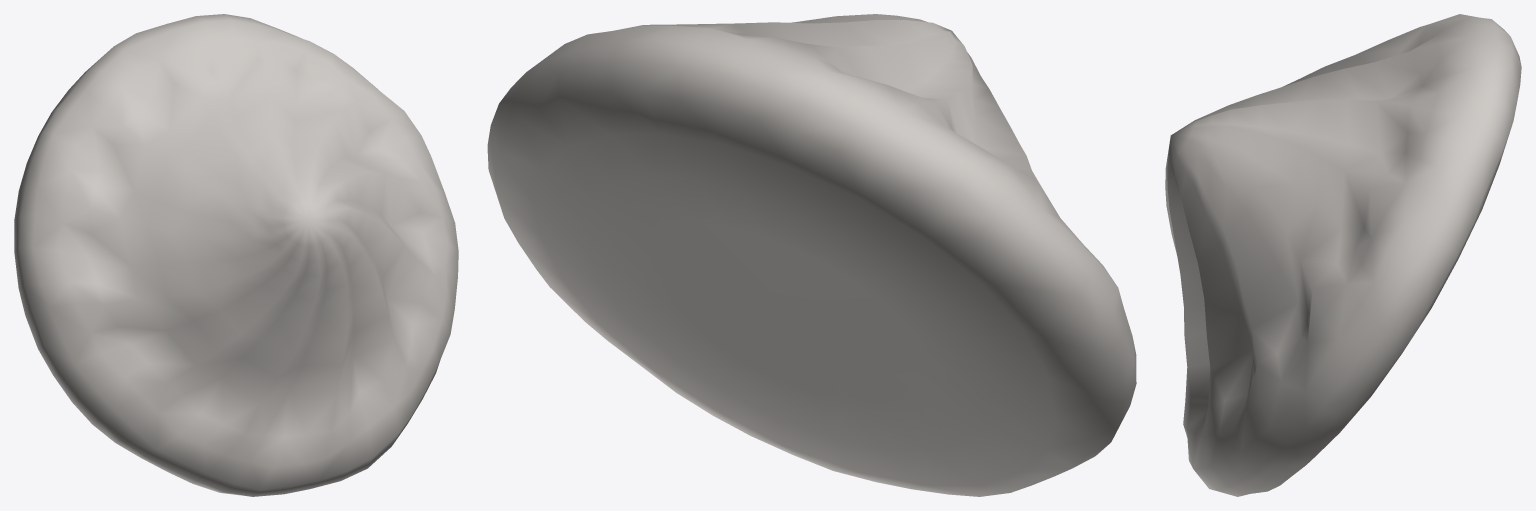
The model's file is ref_bfsoupdumpling.fbx.
3 views of the same model, side by side, from view 1: azimuth 30°, elevation 25°; view 2: azimuth 150°, elevation 25°; view 3: azimuth 270°, elevation 25° (orthographic). The views are drawn at different scales.
Visible parts, largest first — view 1: ref_bfsoupdumpling; view 2: ref_bfsoupdumpling; view 3: ref_bfsoupdumpling.
Boxes of the visible parts, bbox=[...] form: ref_bfsoupdumpling: bbox=[14, 14, 458, 496]; ref_bfsoupdumpling: bbox=[487, 14, 1136, 496]; ref_bfsoupdumpling: bbox=[1165, 14, 1521, 496].
Bounding box in the file's own units: 100 × 87.85 × 66.49.
